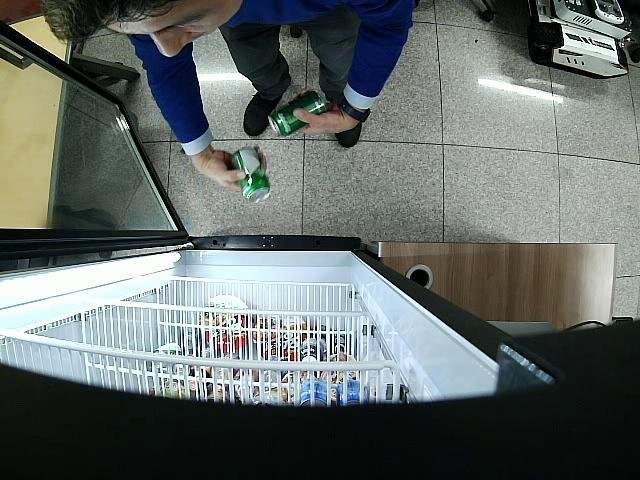12_chilsungCider: (268, 91, 328, 137), (228, 146, 270, 204)
